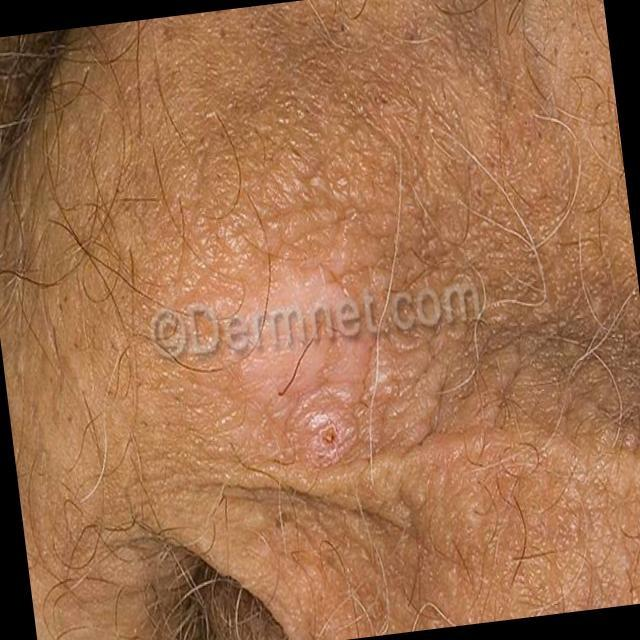Eczema: (199, 143, 481, 498)
